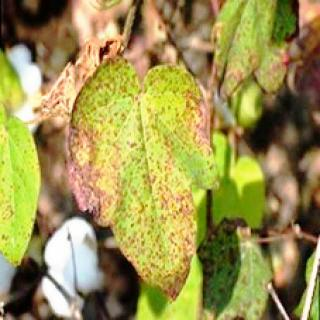leaf spot: (54, 50, 222, 302)
